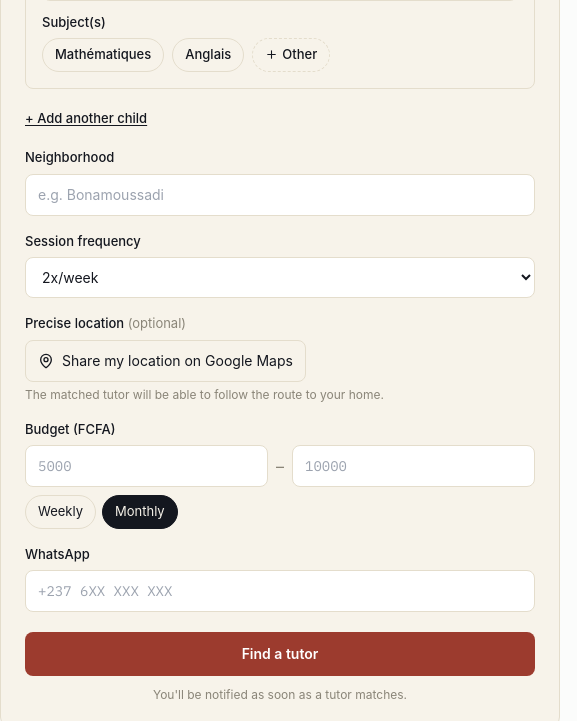
Test: RequestForm › shows validation errors and does not submit when required fields are empty
The image size is (577, 721).
(page scrolled)
Click the button "Find a tutor": click(280, 654) 25,632 -> 535,676
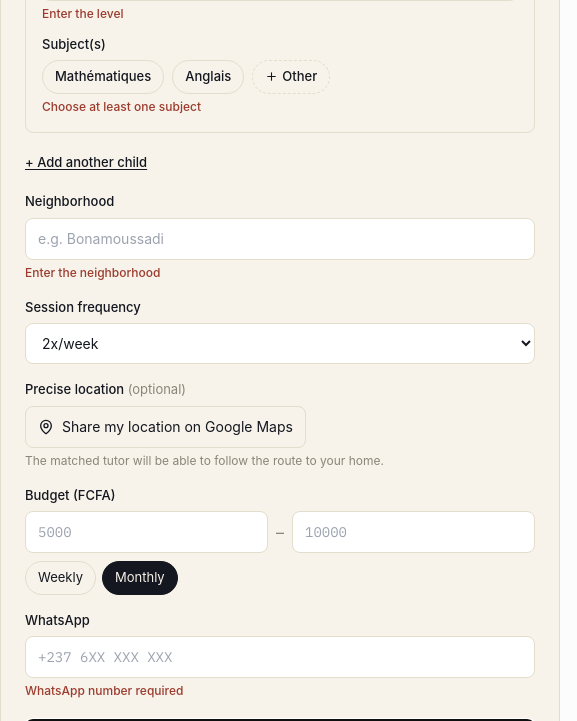
Now the text "Choose at least one subject" is shown, box 42,98 -> 201,114
Now the text "Enter the level" is shown, box 42,6 -> 124,20
Now the text "Enter the neighborhood" is shown, box 25,264 -> 160,280
